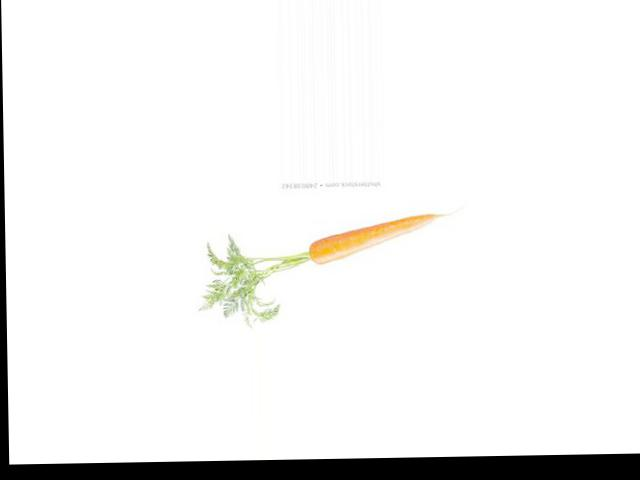carrot: (305, 206, 447, 267)
